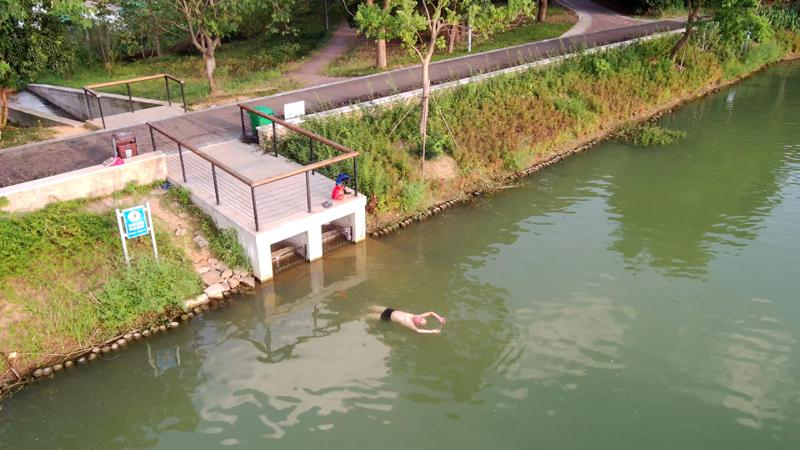swimmers: (362, 304, 446, 335)
